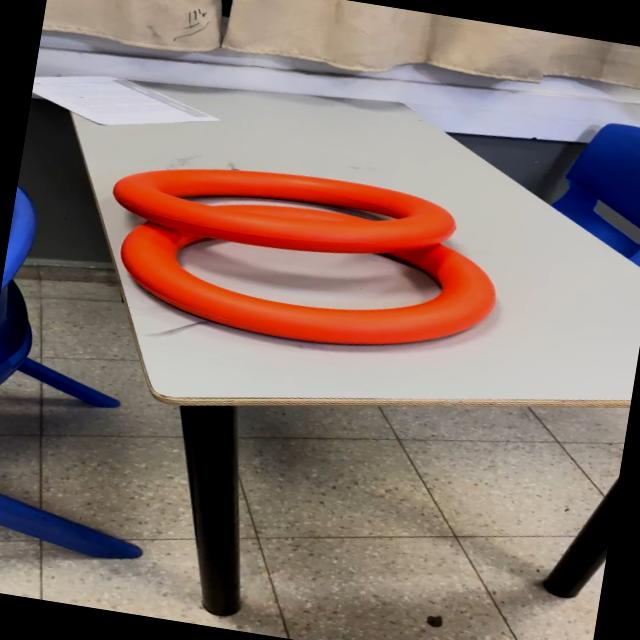note: (109, 178, 508, 372), (106, 142, 464, 276)
